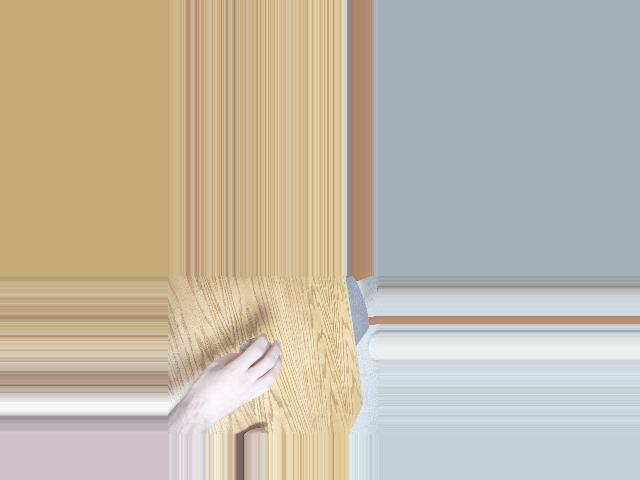onion: (237, 338, 273, 372)
